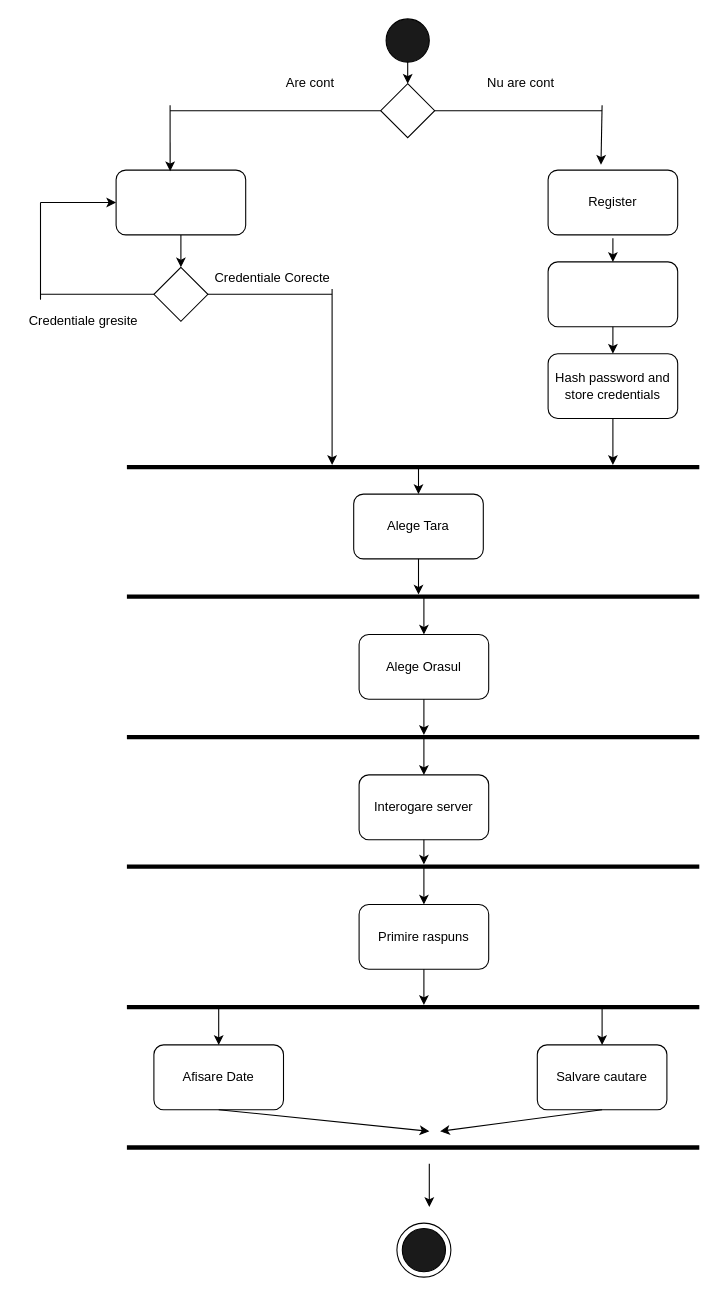
This 719x1296 diagram has some shape labels left out. The box of each missing label's shape, as (x1, y1, x2, y2) in pixels:
Check requirments: (547, 261, 678, 327)
Login: (115, 169, 246, 235)
